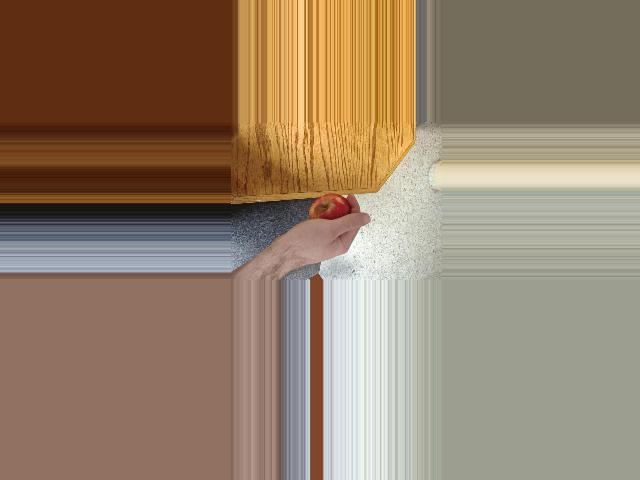apple: (303, 190, 352, 240)
